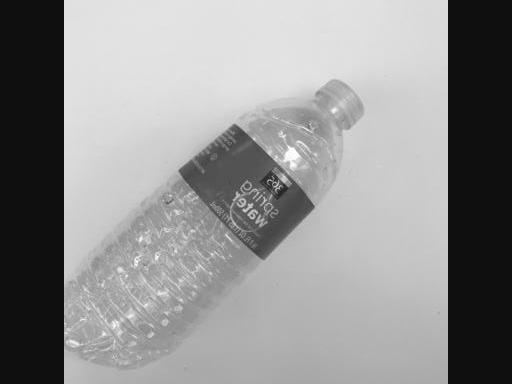bottle: (64, 72, 377, 368)
